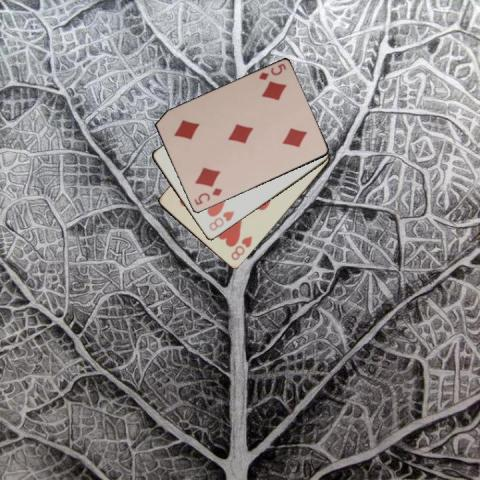5d: (191, 185, 223, 207), (256, 61, 288, 82)
8h: (228, 233, 254, 262), (206, 208, 236, 232)
